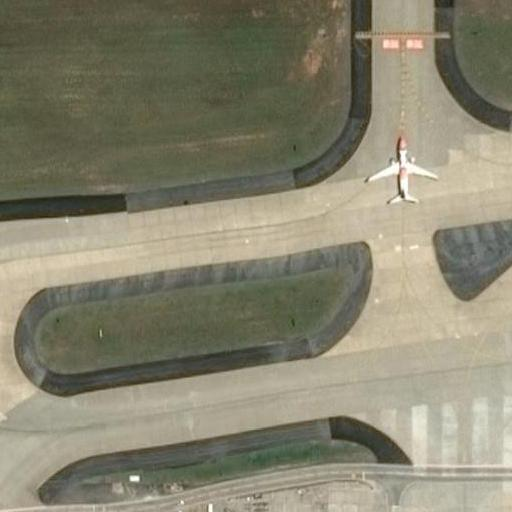Aircraft: (366, 136, 439, 203)
